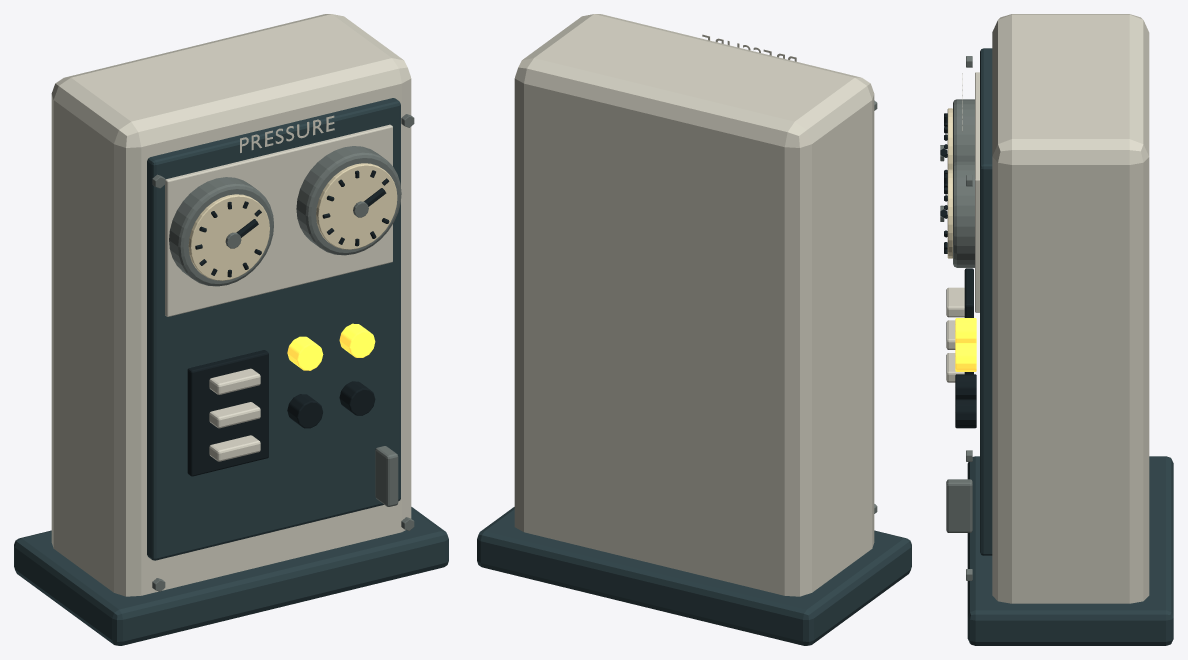
File: control-console.glb
The picture shows the model from 3 angles, left to right: view 1: azimuth 30°, elevation 25°; view 2: azimuth 150°, elevation 25°; view 3: azimuth 270°, elevation 25°; orthographic projection. The views are drawn at different scales.
Visible parts, largest first — view 1: control-console__control-console__ivory, control-console__control-console__steel, control-console__control-console__gauge-face, control-console__control-console__hardware, control-console__control-console__rubber, control-console__control-console__signal-amber; view 2: control-console__control-console__ivory, control-console__control-console__steel; view 3: control-console__control-console__ivory, control-console__control-console__steel, control-console__control-console__hardware, control-console__control-console__rubber, control-console__control-console__signal-amber, control-console__control-console__gauge-face.
Part boxes in pixels (left/top/right/bottom): control-console__control-console__ivory: left=51, top=14, right=411, bottom=596; control-console__control-console__steel: left=14, top=98, right=448, bottom=645; control-console__control-console__gauge-face: left=188, top=163, right=397, bottom=280; control-console__control-console__hardware: left=152, top=114, right=414, bottom=591; control-console__control-console__rubber: left=187, top=170, right=389, bottom=476; control-console__control-console__signal-amber: left=287, top=323, right=375, bottom=370; control-console__control-console__ivory: left=514, top=14, right=874, bottom=596; control-console__control-console__steel: left=477, top=507, right=911, bottom=645; control-console__control-console__ivory: left=946, top=14, right=1149, bottom=603; control-console__control-console__steel: left=967, top=48, right=1173, bottom=645; control-console__control-console__hardware: left=940, top=56, right=974, bottom=580; control-console__control-console__rubber: left=940, top=113, right=976, bottom=428; control-console__control-console__signal-amber: left=955, top=318, right=976, bottom=371; control-console__control-console__gauge-face: left=947, top=108, right=952, bottom=258.
Bounding box in the file's own units: 1.16 × 1.66 × 0.714.
